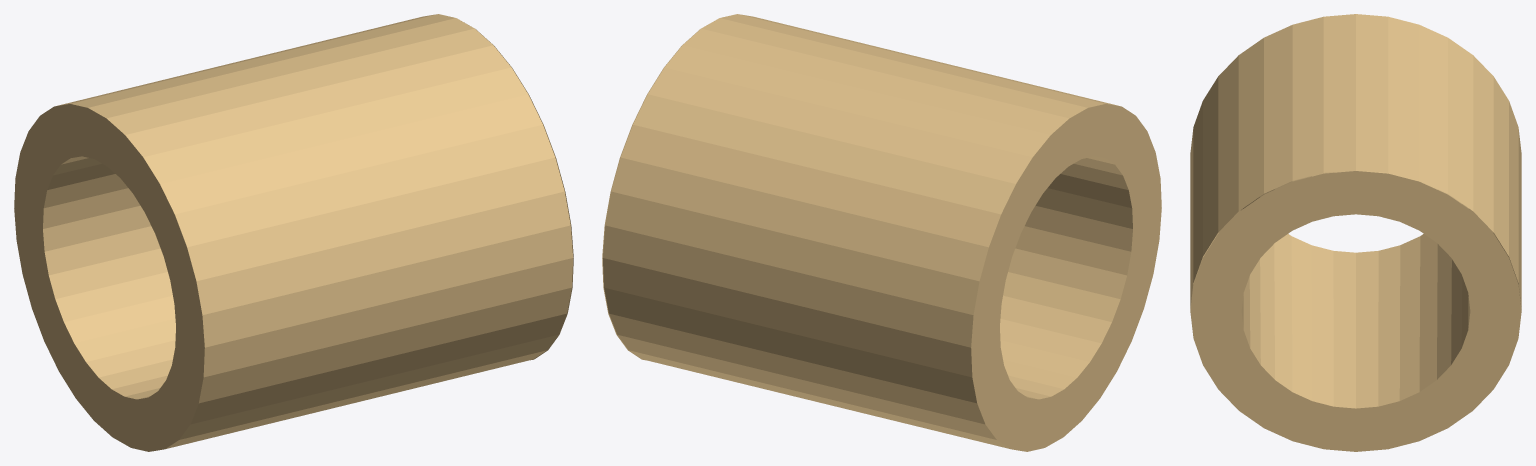
File: pipe.obj
The picture shows the model from 3 angles, left to right: view 1: azimuth 30°, elevation 25°; view 2: azimuth 150°, elevation 25°; view 3: azimuth 270°, elevation 25°; orthographic projection. The views are drawn at different scales.
Visible parts, largest first — view 1: Плоскость; view 2: Плоскость; view 3: Плоскость.
Boxes of the visible parts, x1=… form: Плоскость: x1=14, y1=14, x2=573, y2=451; Плоскость: x1=602, y1=14, x2=1161, y2=451; Плоскость: x1=1190, y1=14, x2=1521, y2=451.
Size of the model in its own units: 0.3472 by 0.2838 by 0.3057.
Materials: 1 (1 with a texture image).
